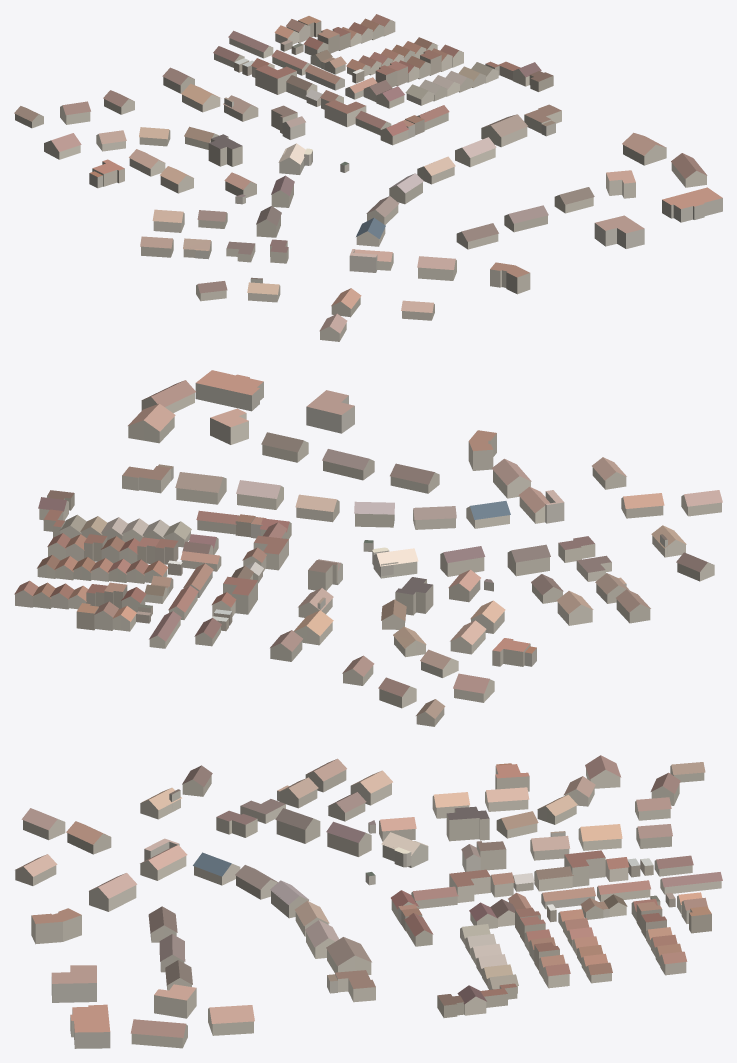
The picture shows the model from 3 angles, top to bottom: view 1: azimuth 30°, elevation 25°; view 2: azimuth 150°, elevation 25°; view 3: azimuth 270°, elevation 25°; orthographic projection. The views are drawn at different scales.
Parts seen in each view (by area): view 1: tuile; view 2: tuile; view 3: tuile.
Boxes of the visible parts, x1=… form: tuile: x1=14, y1=14, x2=722, y2=341; tuile: x1=14, y1=370, x2=722, y2=726; tuile: x1=15, y1=755, x2=722, y2=1048.
Bounding box in the file's own units: 255 × 29.44 × 264.
